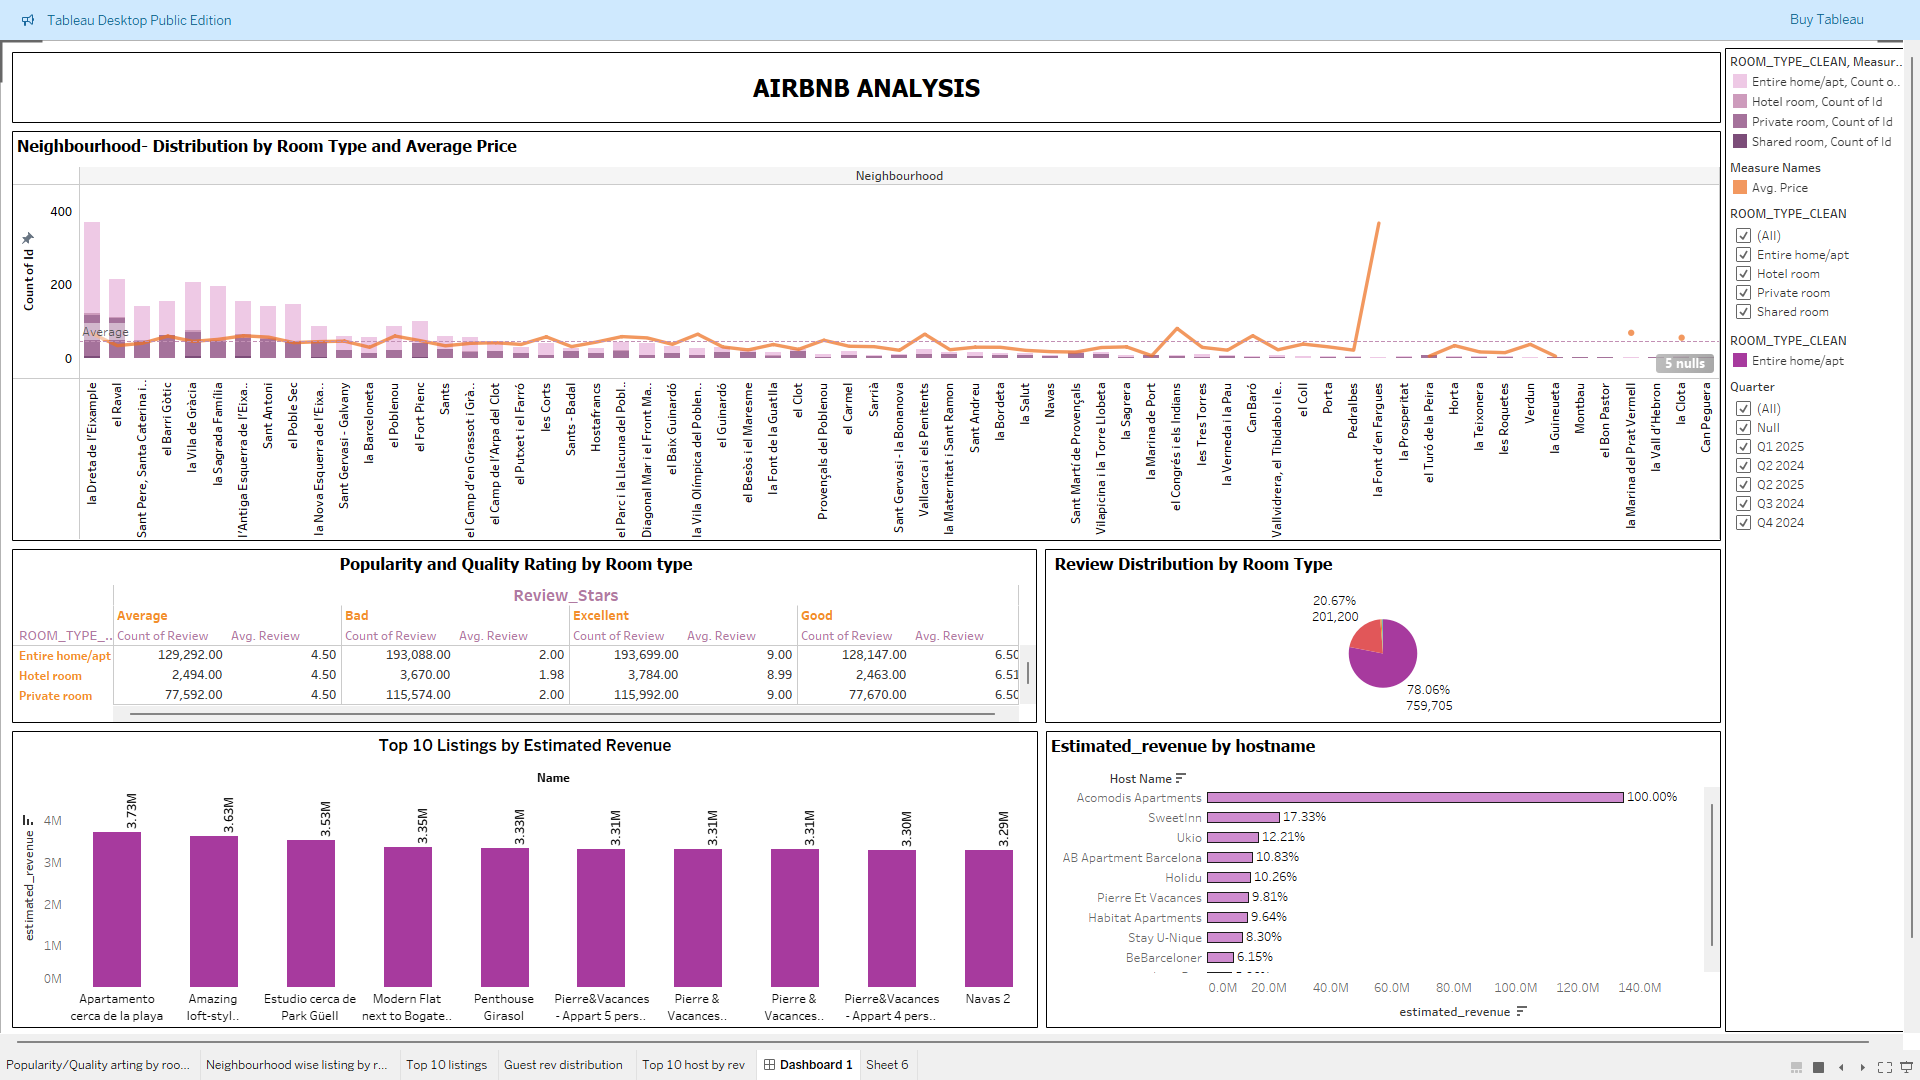

What the dashboard file says about the page in this screenshot:
{"tool":"tableau","page":{"name":"Dashboard 1","canvas":[1600,900],"ordinal":0},"visuals":[{"type":"title","box":[8,8,1397,79]},{"type":"legend","title":"Neighbourhood wise listing by room type","param":"[federated.0d23unh0a4odkh1112qd308h6uef].[none:Calculation_1757529788279005188:n","box":[1406,9,185,106]},{"type":"worksheet","title":"Neighbourhood wise listing by room type","mark":"Automatic","rows":["id","price"],"cols":["neighbourhood"],"box":[8,87,1397,363]},{"type":"legend","title":"Neighbourhood wise listing by room type","param":"[federated.0d23unh0a4odkh1112qd308h6uef].[:Measure Names]","box":[1406,115,185,46]},{"type":"filter","title":"Top 10 listings","param":"[federated.0d23unh0a4odkh1112qd308h6uef].[none:Calculation_1757529788279005188:n","box":[1406,161,185,127]},{"type":"legend","title":"Top 10 listings","param":"[federated.0d23unh0a4odkh1112qd308h6uef].[none:Calculation_1757529788279005188:n","box":[1406,288,185,46]},{"type":"filter","title":"Top 10 host by rev","param":"[federated.0d23unh0a4odkh1112qd308h6uef].[none:Calculation_1757529788264075266:n","box":[1406,334,185,165]},{"type":"worksheet","title":"Popularity/Quality arting by room type","mark":"Automatic","rows":["Calculation_1757529788279005188"],"cols":["Calculation_1757529788278751235"],"box":[8,450,840.9,182]},{"type":"worksheet","title":"Guest rev distribution","mark":"Pie","box":[848.9,450,556.1,182]},{"type":"worksheet","title":"Top 10 listings","mark":"Automatic","rows":["Calculation_1757529788262821888"],"cols":["name"],"box":[8,632,841,260]},{"type":"worksheet","title":"Top 10 host by rev","mark":"Automatic","rows":["host_name"],"cols":["Calculation_1757529788262821888"],"box":[849,632,556,260]}]}

Visuals, with their boxes in screenshot pixels (x1, y1, x2, y2):
title: 5 0 1719 47
"Neighbourhood wise listing by room type" legend: 1720 0 1919 81
"Neighbourhood wise listing by room type" worksheet: 5 47 1719 492
"Neighbourhood wise listing by room type" legend: 1720 81 1919 138
"Top 10 listings" filter: 1720 138 1919 293
"Top 10 listings" legend: 1720 293 1919 350
"Top 10 host by rev" filter: 1720 350 1919 552
"Popularity/Quality arting by room type" worksheet: 5 492 1037 715
"Guest rev distribution" worksheet (Pie marks): 1037 492 1719 715
"Top 10 listings" worksheet: 5 715 1037 1034
"Top 10 host by rev" worksheet: 1037 715 1719 1034
